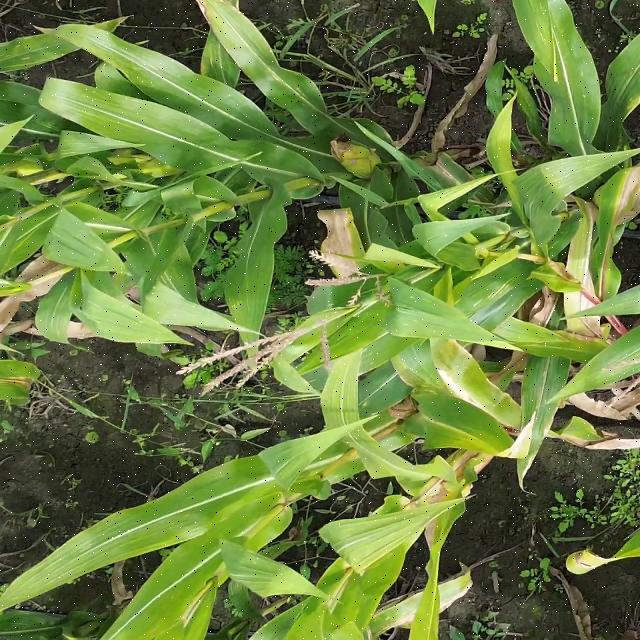gray-leaf-spot: (473, 276, 541, 350), (504, 161, 606, 207)
northern-leaf-blight: (434, 352, 534, 432), (356, 581, 473, 637)
southern-leaf-blight: (534, 20, 610, 150), (117, 44, 209, 110), (341, 336, 449, 392)
